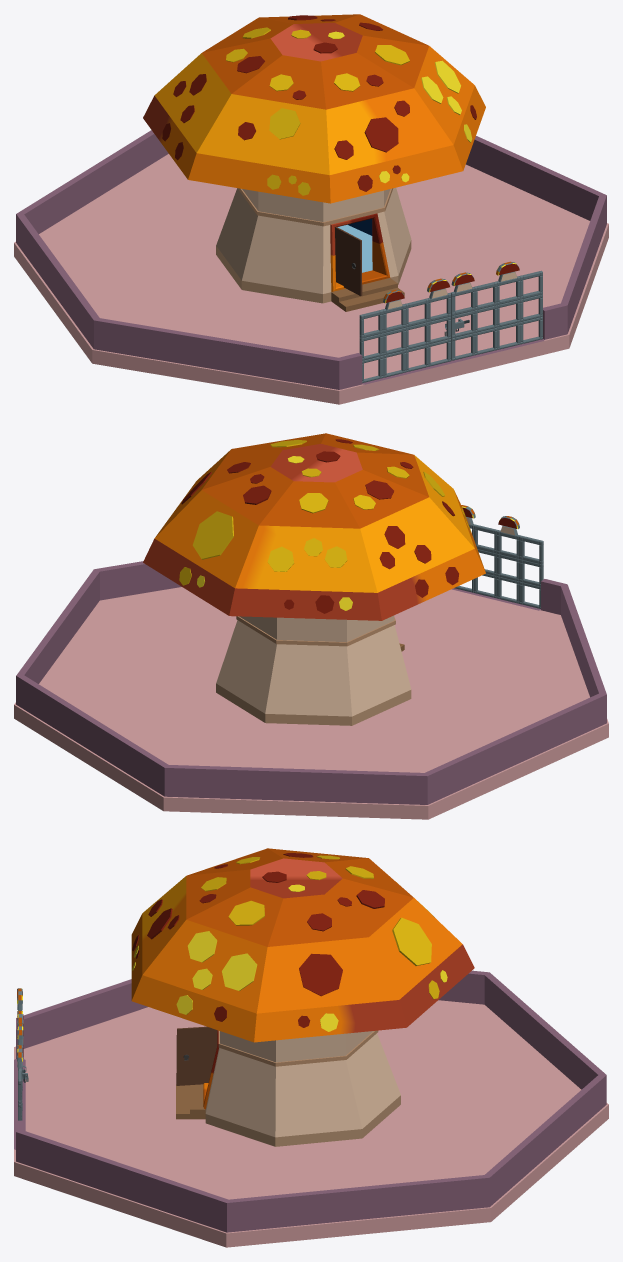
Rendered from houses.glb.
3 views of the same model, one above another, from view 1: azimuth 30°, elevation 25°; view 2: azimuth 150°, elevation 25°; view 3: azimuth 270°, elevation 25° (orthographic). The views are drawn at different scales.
Parts seen in each view (by area): view 1: Cylinder.002, Cylinder.050, Cylinder.001, Cylinder.003, Plane; view 2: Cylinder.002, Cylinder.050, Cylinder.003; view 3: Cylinder.002, Cylinder.050, Plane, Cylinder.001.
Part boxes in pixels (<box>): Cylinder.002: <box>14,130,608,404</box>; Cylinder.050: <box>143,14,485,311</box>; Cylinder.001: <box>450,261,542,360</box>; Cylinder.003: <box>359,278,451,382</box>; Plane: <box>335,227,362,296</box>; Cylinder.002: <box>14,561,608,819</box>; Cylinder.050: <box>143,433,485,725</box>; Cylinder.003: <box>454,505,543,608</box>; Cylinder.002: <box>14,970,608,1247</box>; Cylinder.050: <box>131,848,474,1146</box>; Plane: <box>176,1026,217,1085</box>; Cylinder.001: <box>17,1023,27,1120</box>.
Size of the model in its own units: 7.4 by 3.23 by 7.22.
1 material, 1 textured.
